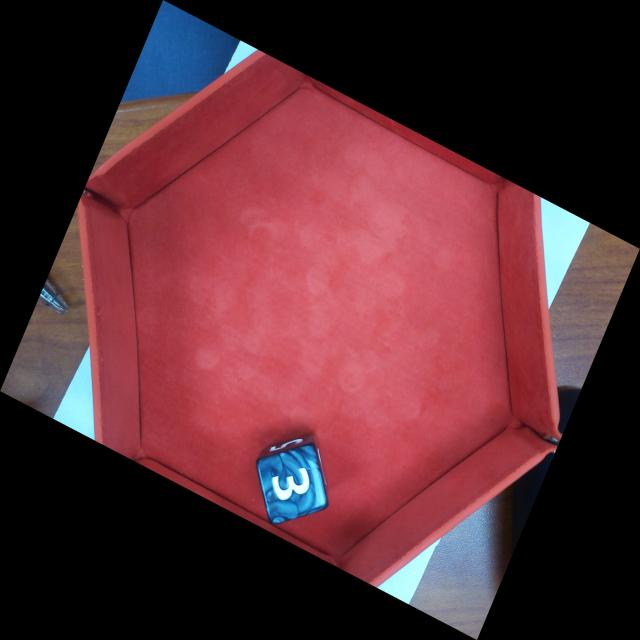dice: (256, 441, 328, 527)
